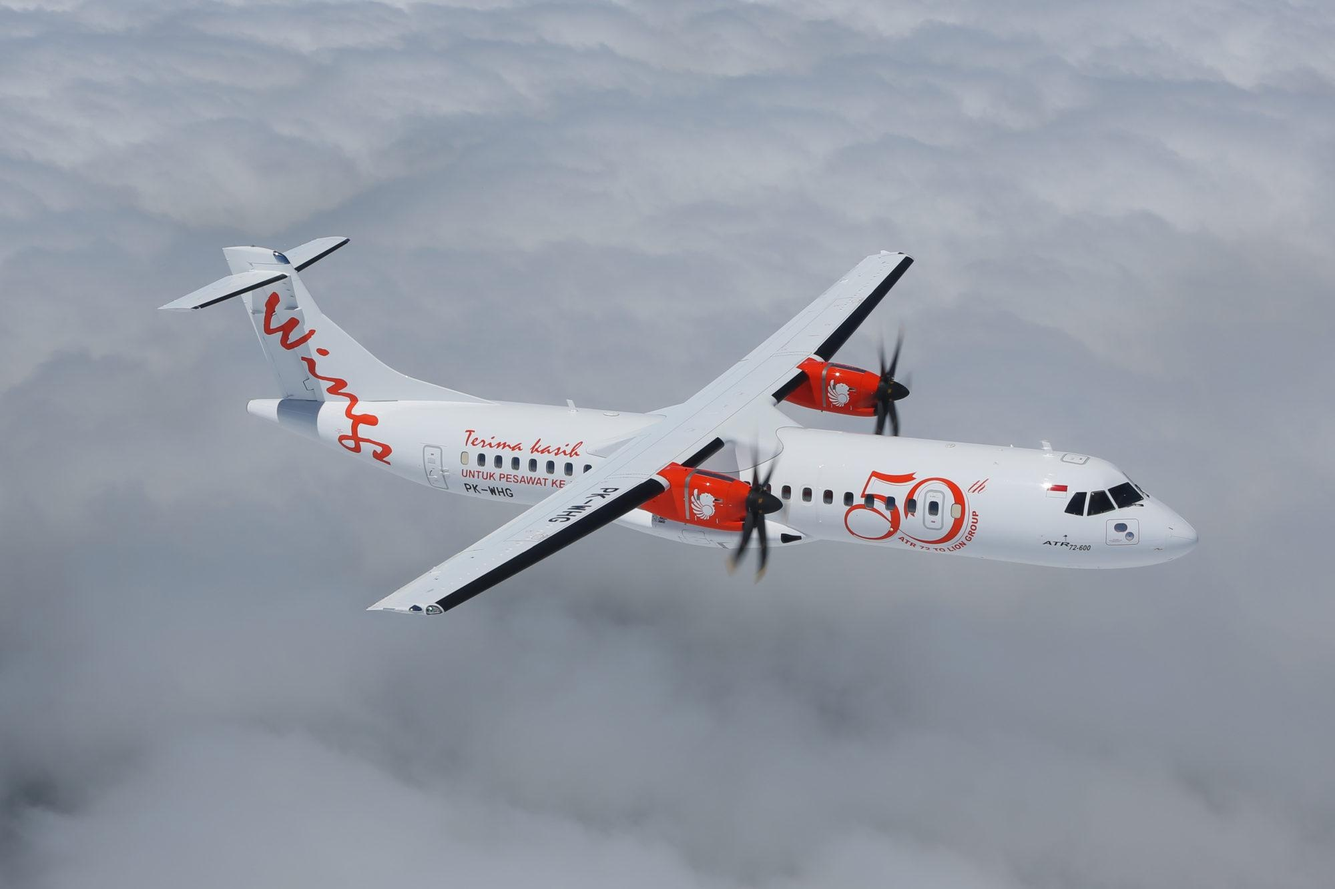aircraft: (160, 235, 1215, 620)
